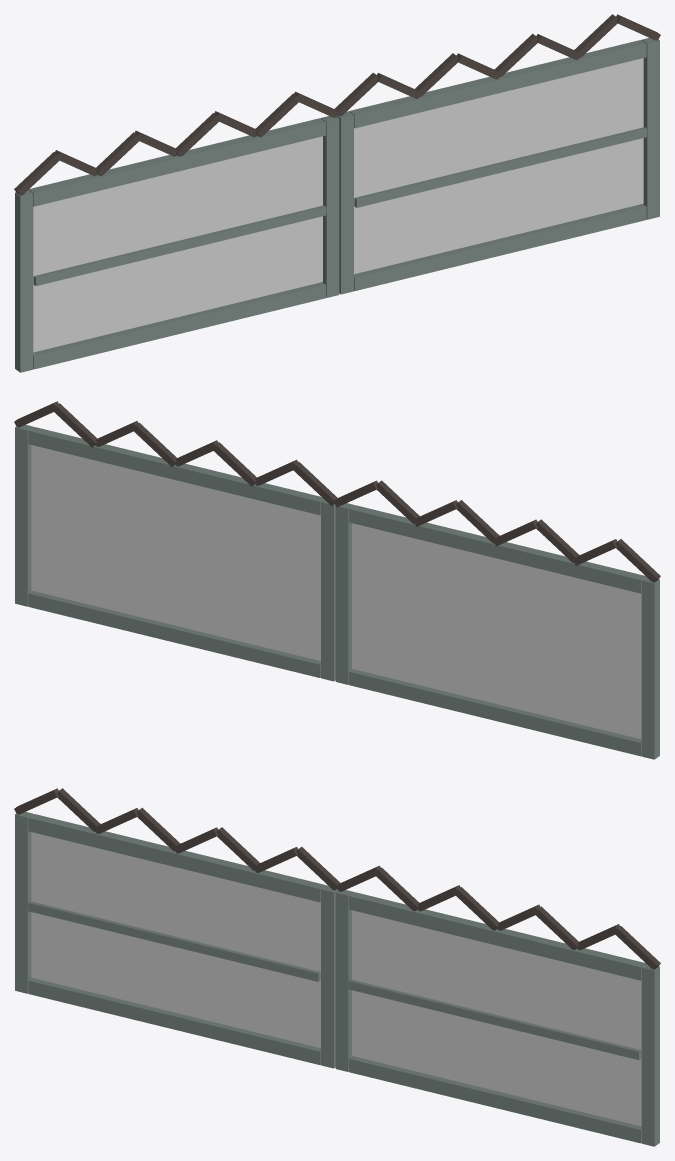
File: SM_PuertaVehiculos_v3_MallaEspino_e0_Sano_LOD1.fbx
3 views of the same model, one above another, from view 1: azimuth 30°, elevation 25°; view 2: azimuth 150°, elevation 25°; view 3: azimuth 330°, elevation 25° (orthographic).
Visible parts, largest first — view 1: Hoja_O, Hoja_E; view 2: Hoja_O, Hoja_E; view 3: Hoja_E, Hoja_O.
Part boxes in pixels (x1=…): Hoja_O: x1=14, y1=91, x2=339, y2=372; Hoja_E: x1=334, y1=14, x2=660, y2=294; Hoja_O: x1=334, y1=480, x2=660, y2=759; Hoja_E: x1=14, y1=401, x2=337, y2=681; Hoja_E: x1=335, y1=865, x2=660, y2=1146; Hoja_O: x1=14, y1=788, x2=340, y2=1068.
Size of what is drawn, in the model's own units: 8.02 by 2.48 by 0.155.
